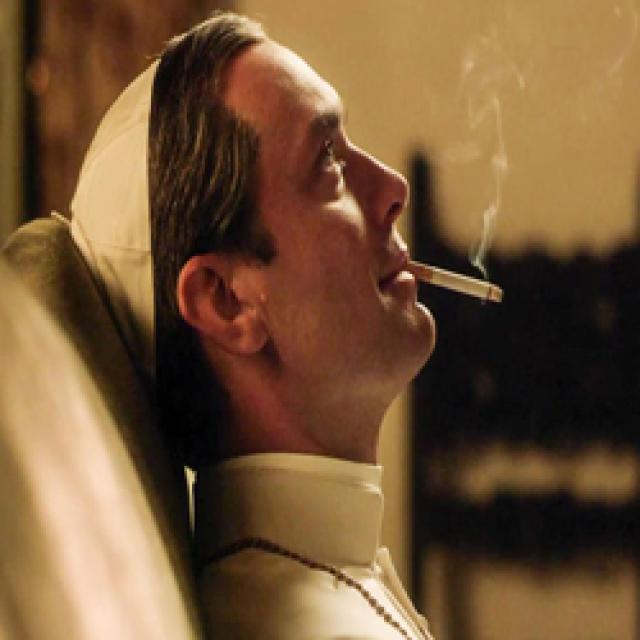Smooking: (397, 249, 522, 322)
